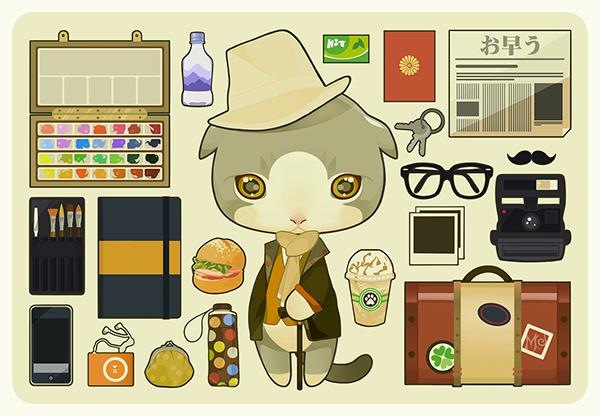cat: (200, 93, 400, 393)
